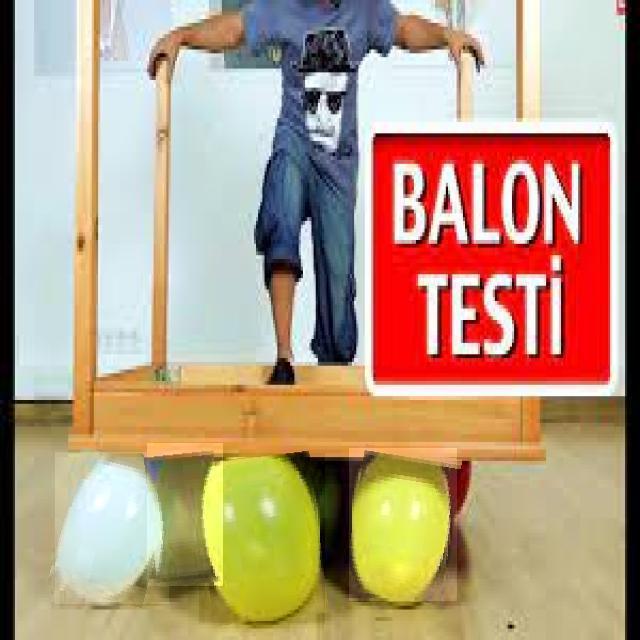balloon: (199, 453, 325, 623), (55, 452, 169, 604), (349, 448, 457, 601), (147, 443, 223, 586)
